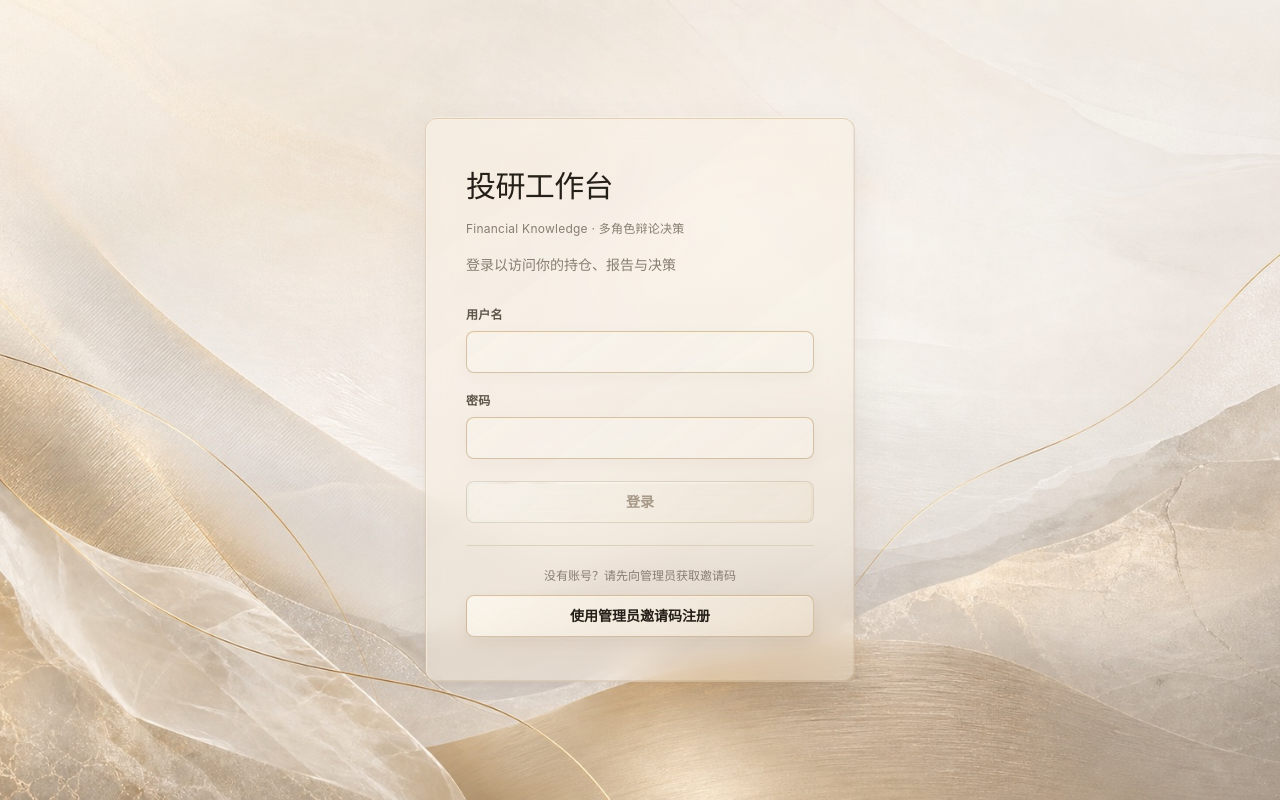
Test: 登录页可进入邀请注册页
This screenshot has width=1280, height=800.
Click the link "使用管理员邀请码注册" at (640, 616), box x1=466 y1=595 x2=814 y2=637
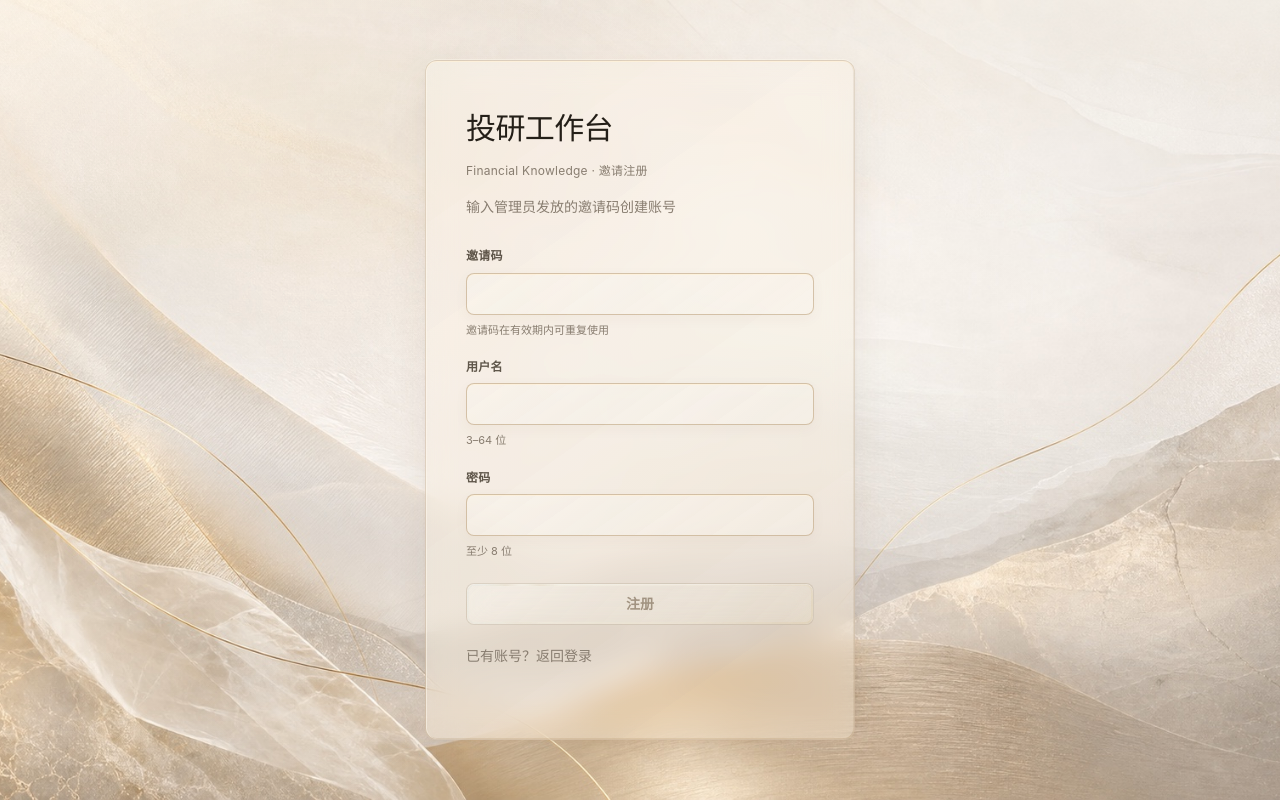
Expected: the text "输入管理员发放的邀请码创建账号" is shown, x1=466 y1=198 x2=676 y2=215
Expected: the field labelled "邀请码" is shown, x1=466 y1=273 x2=814 y2=315
Expected: the text "邀请码在有效期内可重复使用" is shown, x1=466 y1=323 x2=609 y2=337
